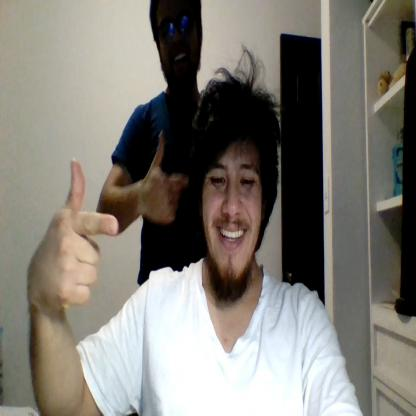G: (34, 157, 119, 309), (142, 130, 190, 224)
